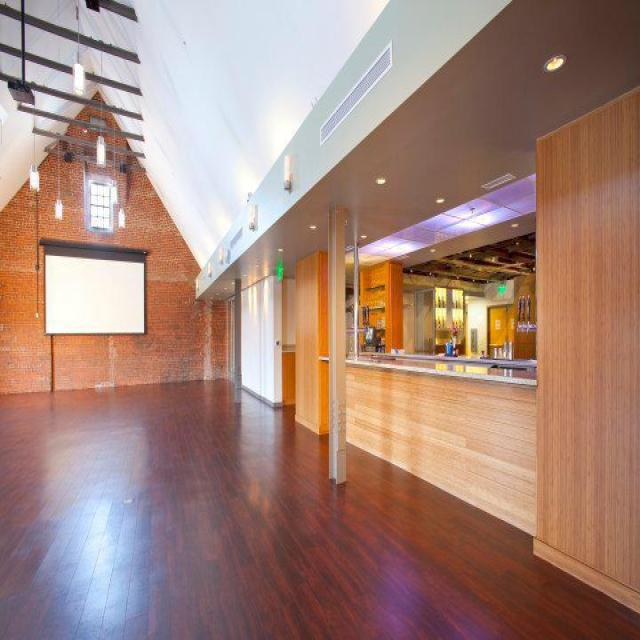other: (86, 512, 115, 582), (436, 290, 466, 338), (433, 354, 495, 376), (382, 236, 415, 265), (489, 307, 513, 340)
